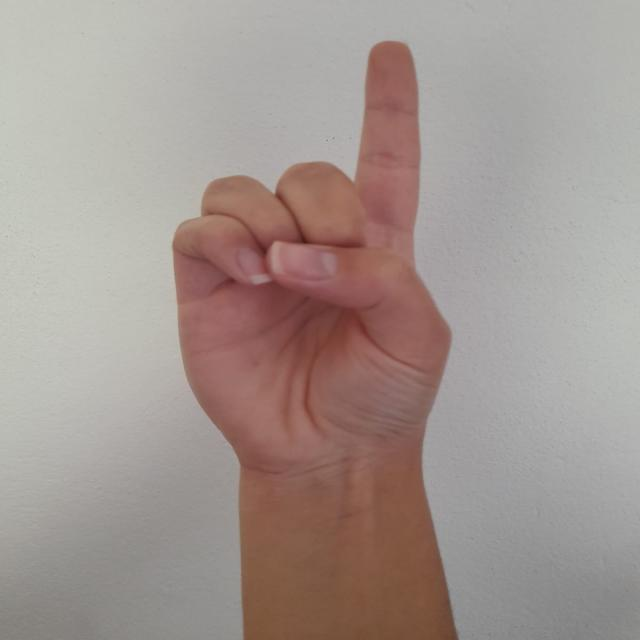D2: (165, 18, 456, 456)
